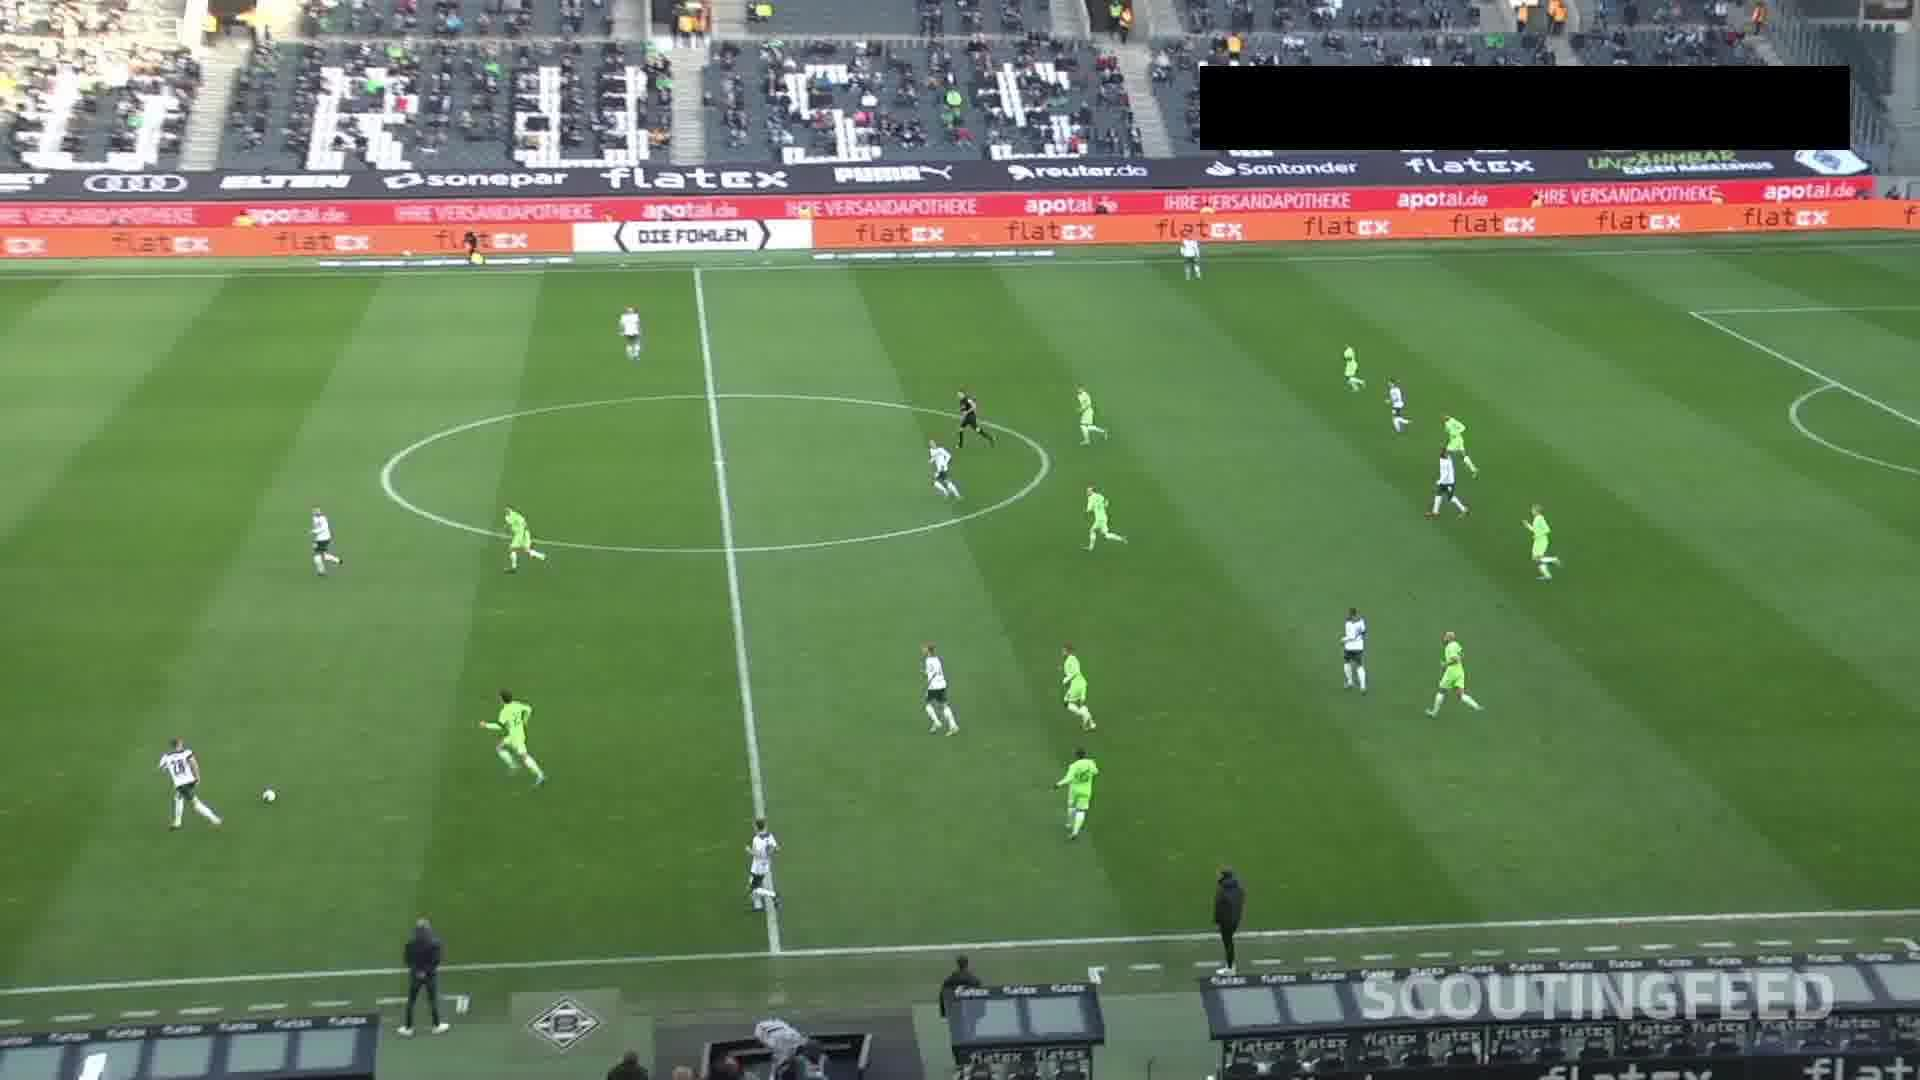football: (258, 786, 280, 806)
